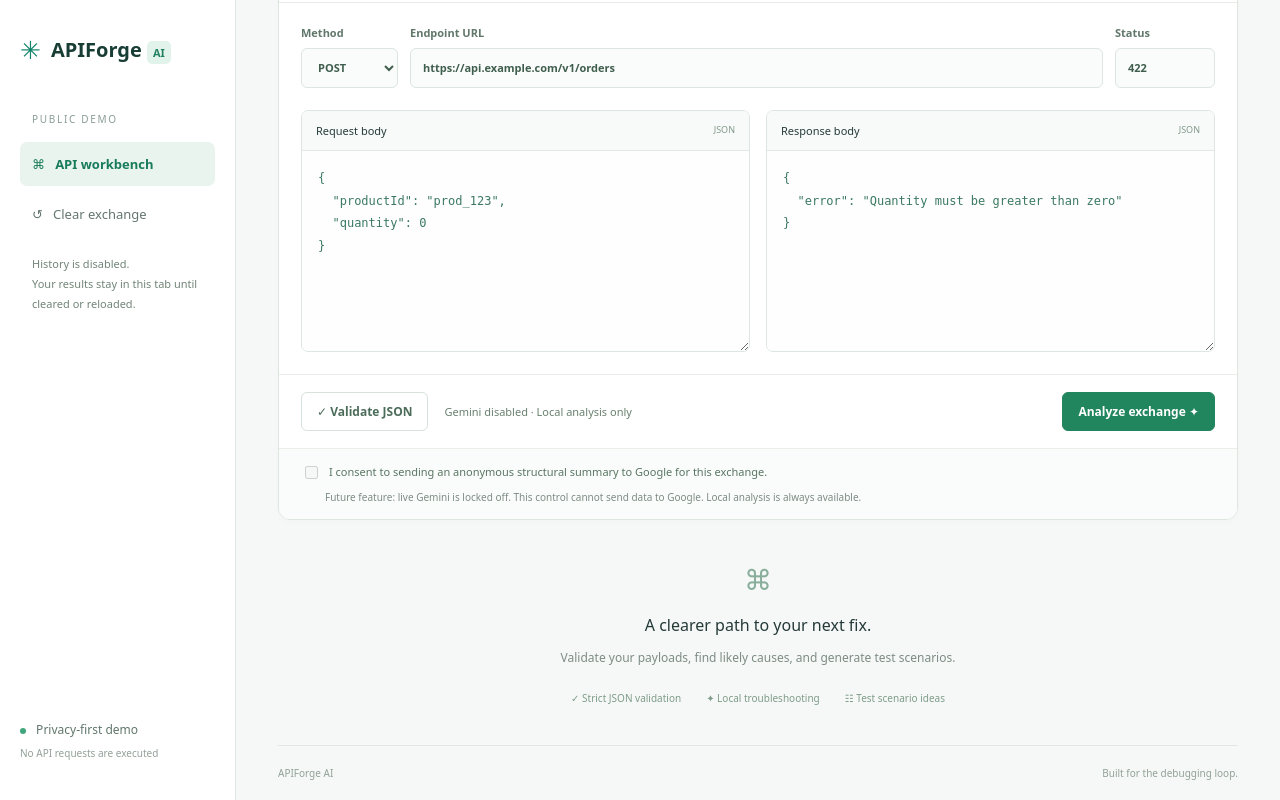
Test case: Public API workbench › validates both JSON bodies
(page scrolled)
Click the button "✓ Validate JSON": (365, 411) [301,392,428,431]
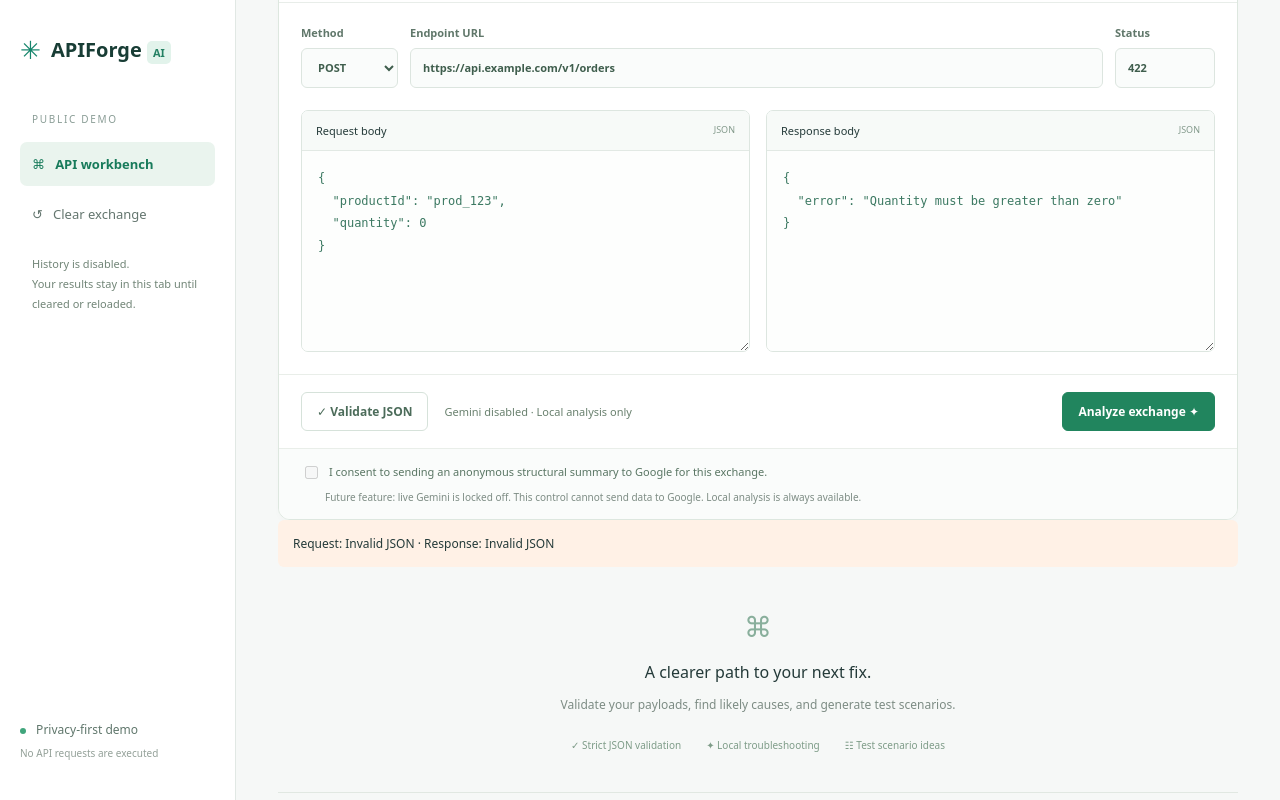
Check: the message reads "Request: Invalid JSON · Response: Invalid JSON", box [278,520,1238,567]
